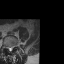CCS_normal: (9, 44, 11, 53)
LFS_normal: (13, 42, 14, 49)
LLS_normal: (11, 44, 13, 51)
RFS_normal: (6, 44, 7, 50)
RLS_normal: (7, 44, 9, 52)
